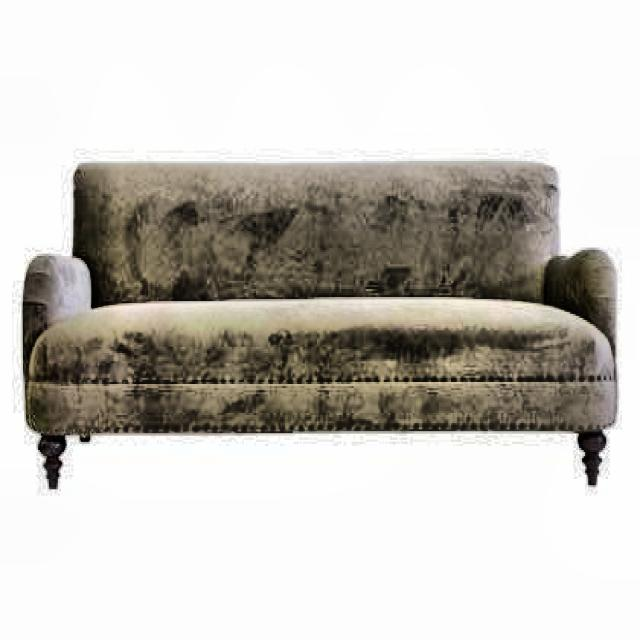sofa: (23, 161, 620, 487)
